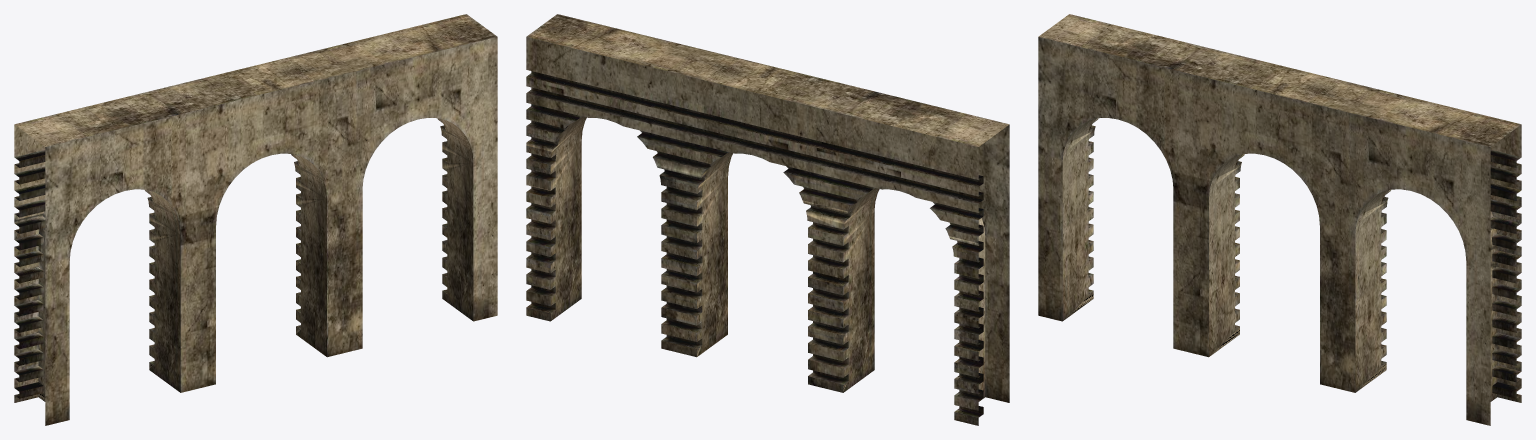
Rendered from arch_a.glb.
3 renders of one model, left to right at view 1: azimuth 30°, elevation 25°; view 2: azimuth 150°, elevation 25°; view 3: azimuth 330°, elevation 25°, orthographic.
Visible parts, largest first — view 1: Object_3; view 2: Object_3; view 3: Object_3.
Part boxes in pixels (left/top/right/bottom): Object_3: left=14, top=14, right=497, bottom=425; Object_3: left=526, top=14, right=1009, bottom=425; Object_3: left=1038, top=14, right=1521, bottom=425.
Bounding box in the file's own units: 2.9 × 1.71 × 0.3462.
Materials: 1 (1 with a texture image).
